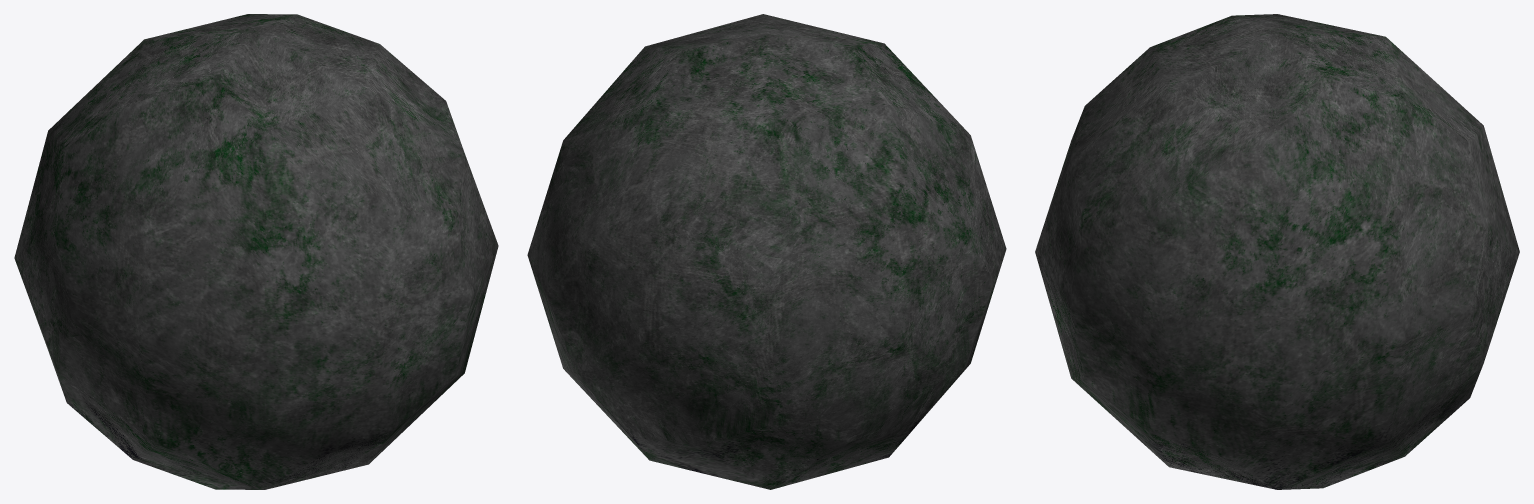
The model's file is rock.fbx.
The picture shows the model from 3 angles, left to right: view 1: azimuth 30°, elevation 25°; view 2: azimuth 150°, elevation 25°; view 3: azimuth 270°, elevation 25°; orthographic projection.
Parts seen in each view (by area): view 1: pPlatonic1; view 2: pPlatonic1; view 3: pPlatonic1.
Part boxes in pixels (x1,y1,x2,y2): pPlatonic1: (14, 14, 498, 489); pPlatonic1: (527, 14, 1006, 489); pPlatonic1: (1035, 14, 1519, 489).
Size of the model in its own units: 6.78 by 6.9 by 6.9.
Materials: 1 (1 with a texture image).
